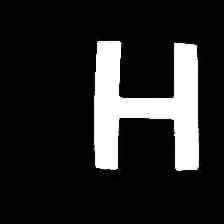LTR_H: (82, 26, 204, 175)
